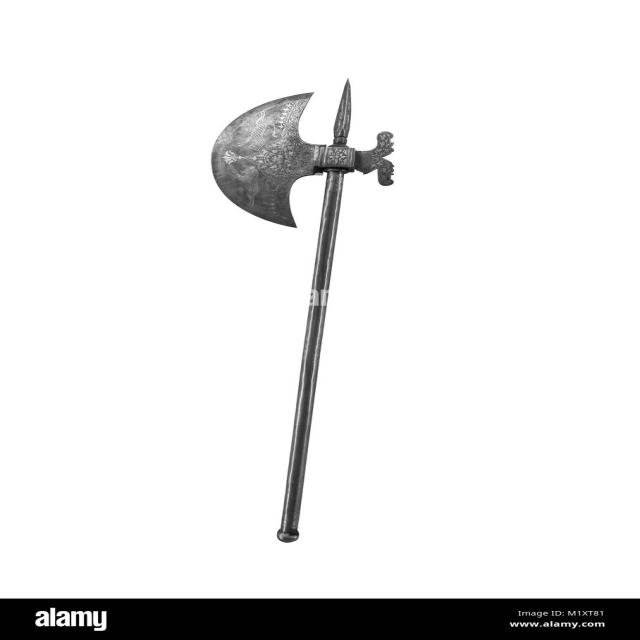Gun: (174, 77, 403, 570)
